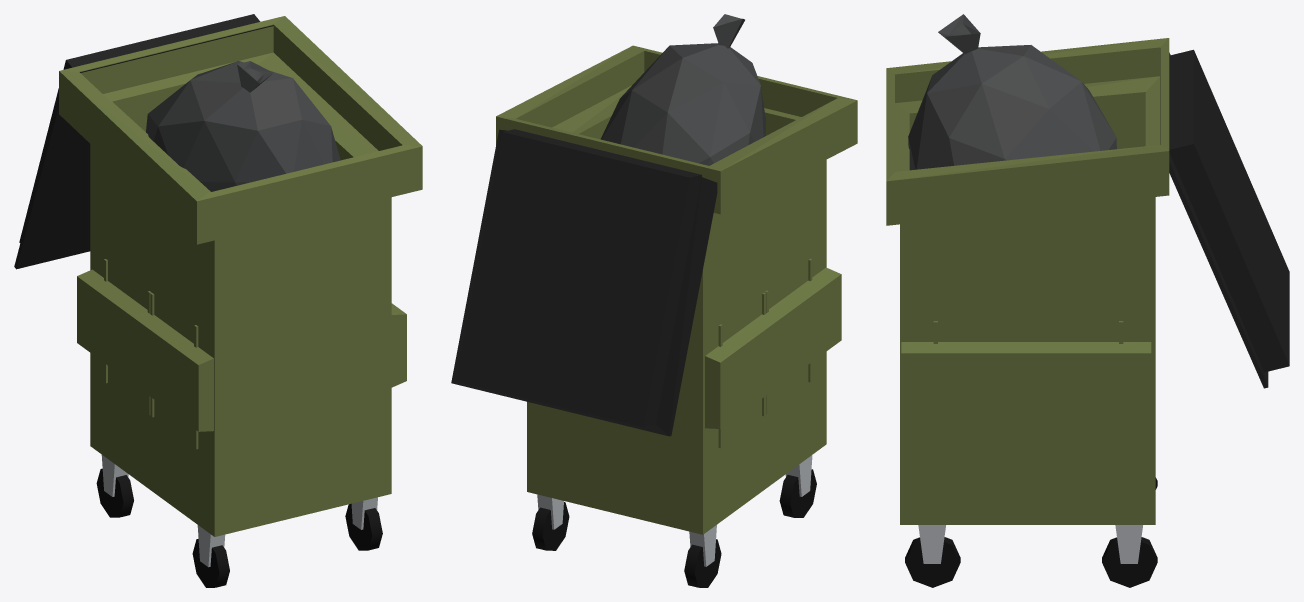
The model's file is SM_garbagecan_small_open.fbx.
The picture shows the model from 3 angles, left to right: view 1: azimuth 30°, elevation 25°; view 2: azimuth 150°, elevation 25°; view 3: azimuth 270°, elevation 25°; orthographic projection. The views are drawn at different scales.
Visible parts, largest first — view 1: Box104; view 2: Box104; view 3: Box104.
Boxes of the visible parts, x1=… form: Box104: x1=14, y1=14, x2=422, y2=587; Box104: x1=451, y1=14, x2=857, y2=587; Box104: x1=886, y1=14, x2=1289, y2=587.
Bounding box in the file's own units: 27.16 × 40.92 × 57.65.
